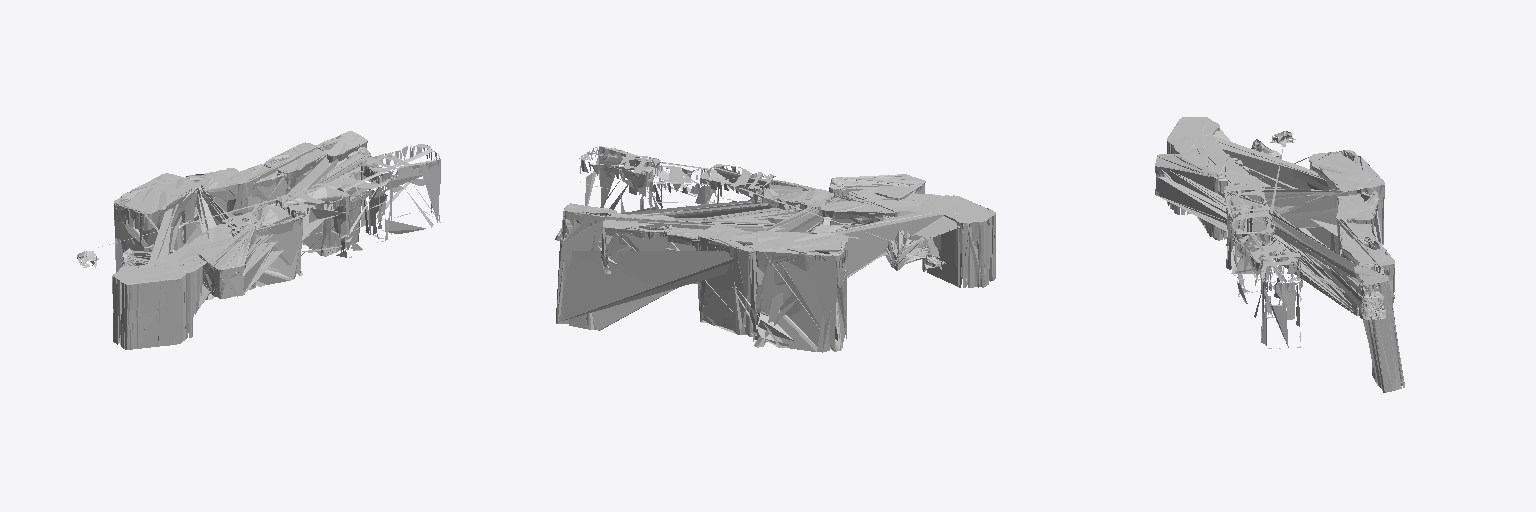
Rendered from cellMoss_NorthPass_Proxy-sharedassets3.assets-596.obj.
The picture shows the model from 3 angles: view 1: azimuth 30°, elevation 25°; view 2: azimuth 150°, elevation 25°; view 3: azimuth 270°, elevation 25°; orthographic projection.
Parts seen in each view (by area): view 1: cellMoss_NorthPass_Proxy_8, cellMoss_NorthPass_Proxy_7, cellMoss_NorthPass_Proxy_6, cellMoss_NorthPass_Proxy_5; view 2: cellMoss_NorthPass_Proxy_8, cellMoss_NorthPass_Proxy_7, cellMoss_NorthPass_Proxy_5, cellMoss_NorthPass_Proxy_6, cellMoss_NorthPass_Proxy_2; view 3: cellMoss_NorthPass_Proxy_8, cellMoss_NorthPass_Proxy_7, cellMoss_NorthPass_Proxy_5, cellMoss_NorthPass_Proxy_6, cellMoss_NorthPass_Proxy_2.
Part boxes in pixels (left/top/right/bottom): cellMoss_NorthPass_Proxy_8: left=112, top=131, right=367, bottom=349; cellMoss_NorthPass_Proxy_7: left=77, top=131, right=440, bottom=349; cellMoss_NorthPass_Proxy_6: left=123, top=152, right=370, bottom=308; cellMoss_NorthPass_Proxy_5: left=123, top=149, right=366, bottom=297; cellMoss_NorthPass_Proxy_8: left=555, top=174, right=995, bottom=351; cellMoss_NorthPass_Proxy_7: left=556, top=146, right=995, bottom=352; cellMoss_NorthPass_Proxy_5: left=621, top=174, right=927, bottom=269; cellMoss_NorthPass_Proxy_6: left=556, top=178, right=930, bottom=263; cellMoss_NorthPass_Proxy_2: left=556, top=213, right=928, bottom=269; cellMoss_NorthPass_Proxy_8: left=1155, top=117, right=1404, bottom=392; cellMoss_NorthPass_Proxy_7: left=1155, top=117, right=1404, bottom=392; cellMoss_NorthPass_Proxy_5: left=1155, top=142, right=1379, bottom=319; cellMoss_NorthPass_Proxy_6: left=1156, top=148, right=1385, bottom=319; cellMoss_NorthPass_Proxy_2: left=1239, top=140, right=1384, bottom=319.
Bounding box in the file's own units: 182 × 60.75 × 110.